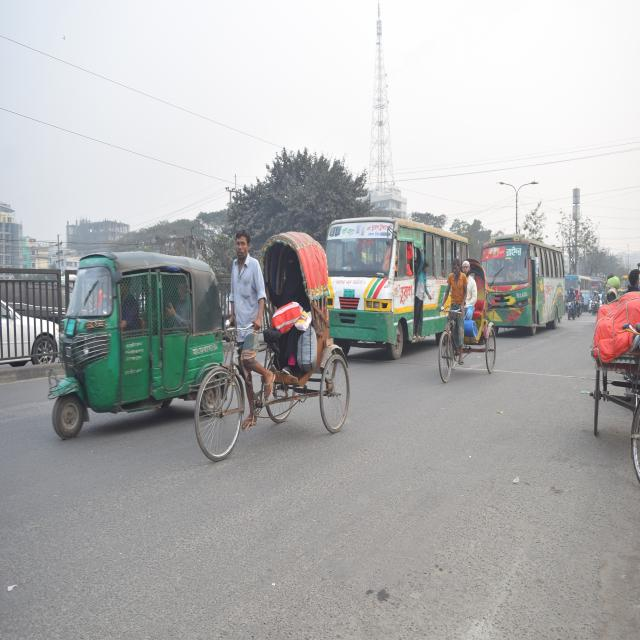bus: (322, 212, 472, 364), (477, 229, 566, 337)
car: (4, 292, 54, 365)
motorbike: (585, 288, 607, 331), (568, 297, 582, 321)
